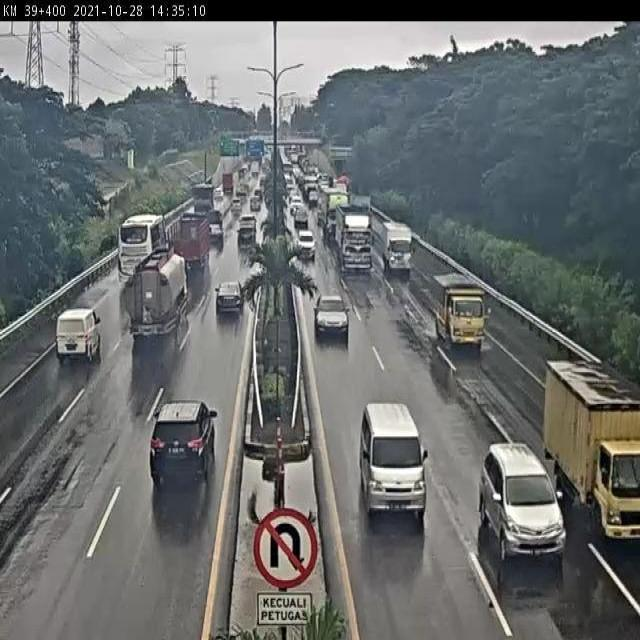car: (474, 420, 577, 575), (350, 391, 438, 529), (142, 381, 230, 511), (45, 299, 107, 368), (310, 286, 352, 346), (209, 272, 248, 328), (290, 223, 323, 259), (230, 221, 259, 256)
truck: (540, 342, 640, 534), (120, 241, 193, 368), (110, 202, 172, 290), (427, 267, 489, 355), (163, 207, 220, 287), (329, 207, 385, 277), (375, 219, 420, 281)
